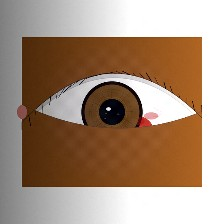hemorrhage_spot: (95, 102, 162, 156)
